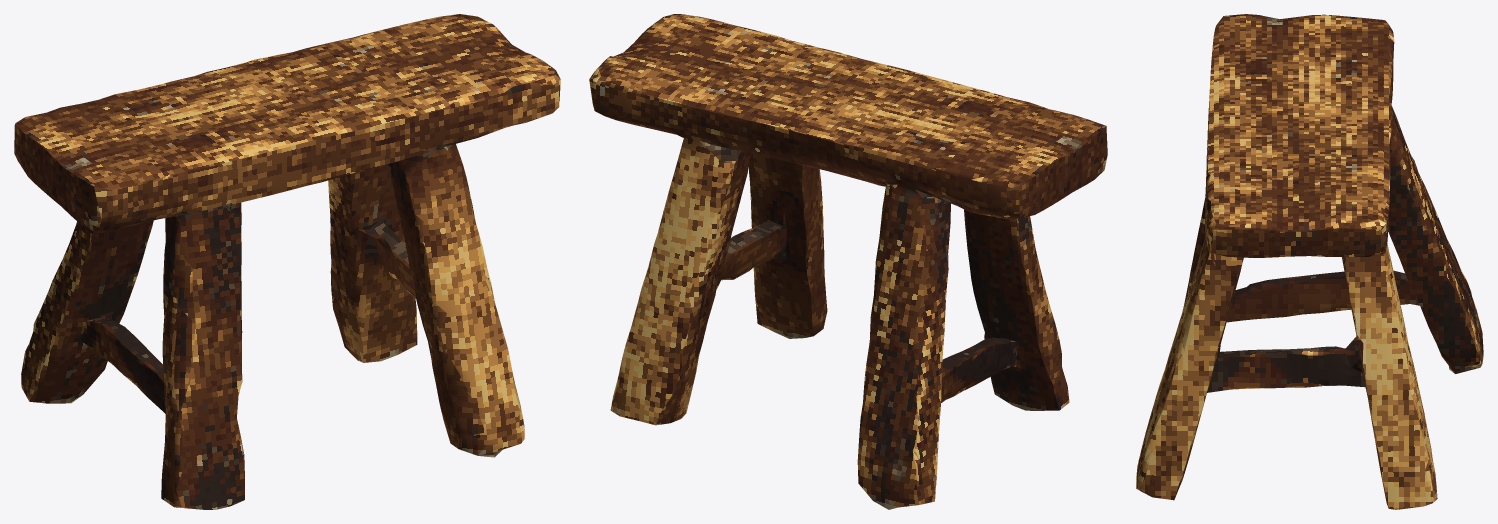
File: wooden_stool_02.glb
3 views of the same model, side by side, from view 1: azimuth 30°, elevation 25°; view 2: azimuth 150°, elevation 25°; view 3: azimuth 270°, elevation 25° (orthographic). The views are drawn at different scales.
Parts seen in each view (by area): view 1: body; view 2: body; view 3: body.
Part boxes in pixels (x1=…): body: x1=14, y1=14, x2=560, y2=509; body: x1=589, y1=14, x2=1107, y2=509; body: x1=1136, y1=14, x2=1483, y2=509.
Bounding box in the file's own units: 0.2652 × 0.1819 × 0.1808.
Materials: 1 (1 with a texture image).
